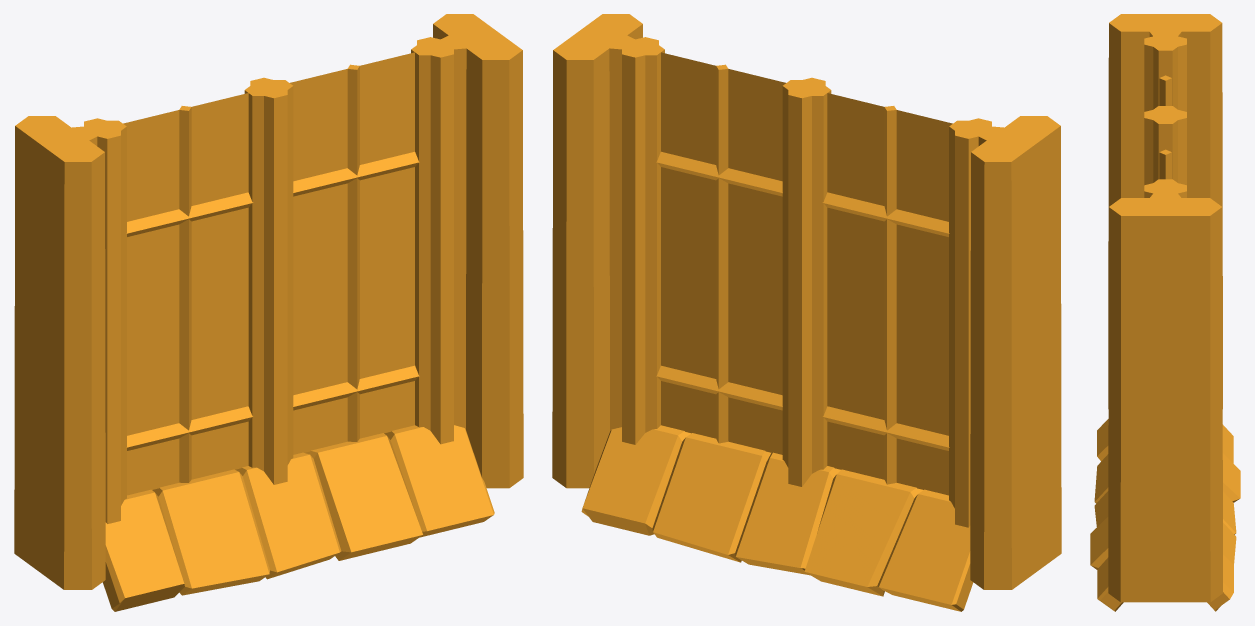
File: SM_Window_Stone_Modular_A_Bottom_Fantasy.fbx
3 renders of one model, left to right at view 1: azimuth 30°, elevation 25°; view 2: azimuth 150°, elevation 25°; view 3: azimuth 270°, elevation 25°, orthographic. The views are drawn at different scales.
Parts seen in each view (by area): view 1: SM_Window_Stone_Modular_A_Bottom_Fantasy; view 2: SM_Window_Stone_Modular_A_Bottom_Fantasy; view 3: SM_Window_Stone_Modular_A_Bottom_Fantasy.
Part boxes in pixels (x1,y1,x2,y2): SM_Window_Stone_Modular_A_Bottom_Fantasy: (14,14,523,611); SM_Window_Stone_Modular_A_Bottom_Fantasy: (552,14,1061,611); SM_Window_Stone_Modular_A_Bottom_Fantasy: (1090,14,1240,611).
Size of the model in its own units: 3.37 by 3.24 by 1.06.
